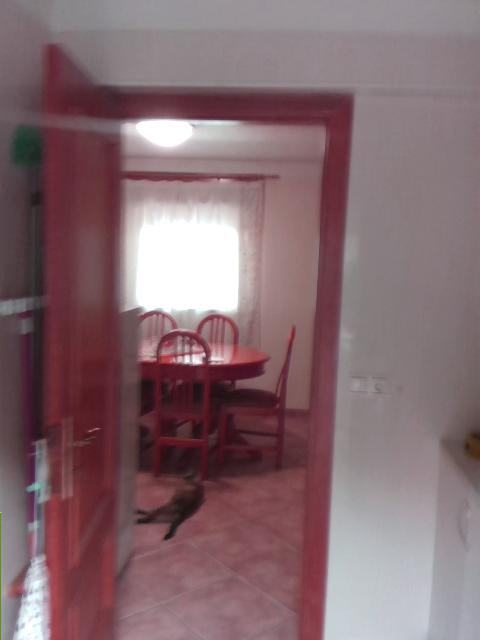open_door: (52, 83, 354, 639)
